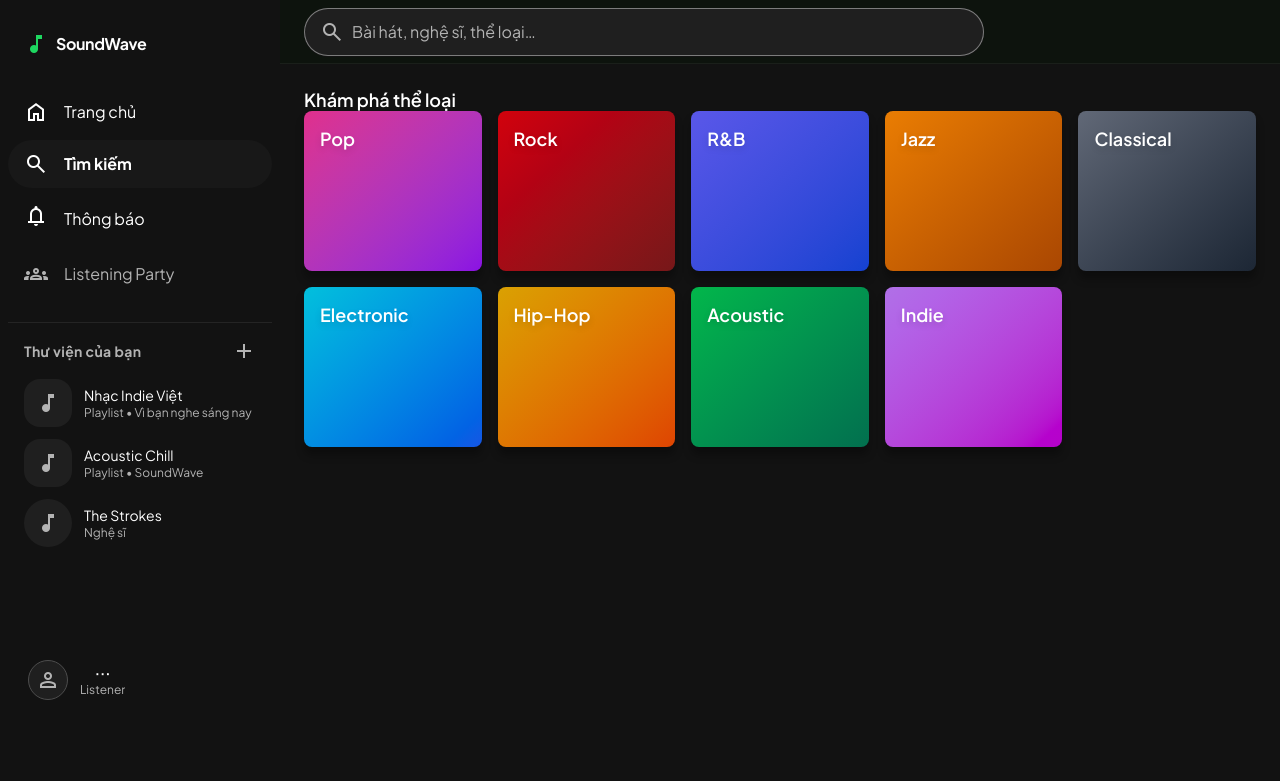
Test case: SearchPage — filter tabs › clicking "Nghệ sĩ" tab shows artists and hides song rows
In the field named "tìm kiếm": (644, 32) [304,8,984,56], type "sơn"
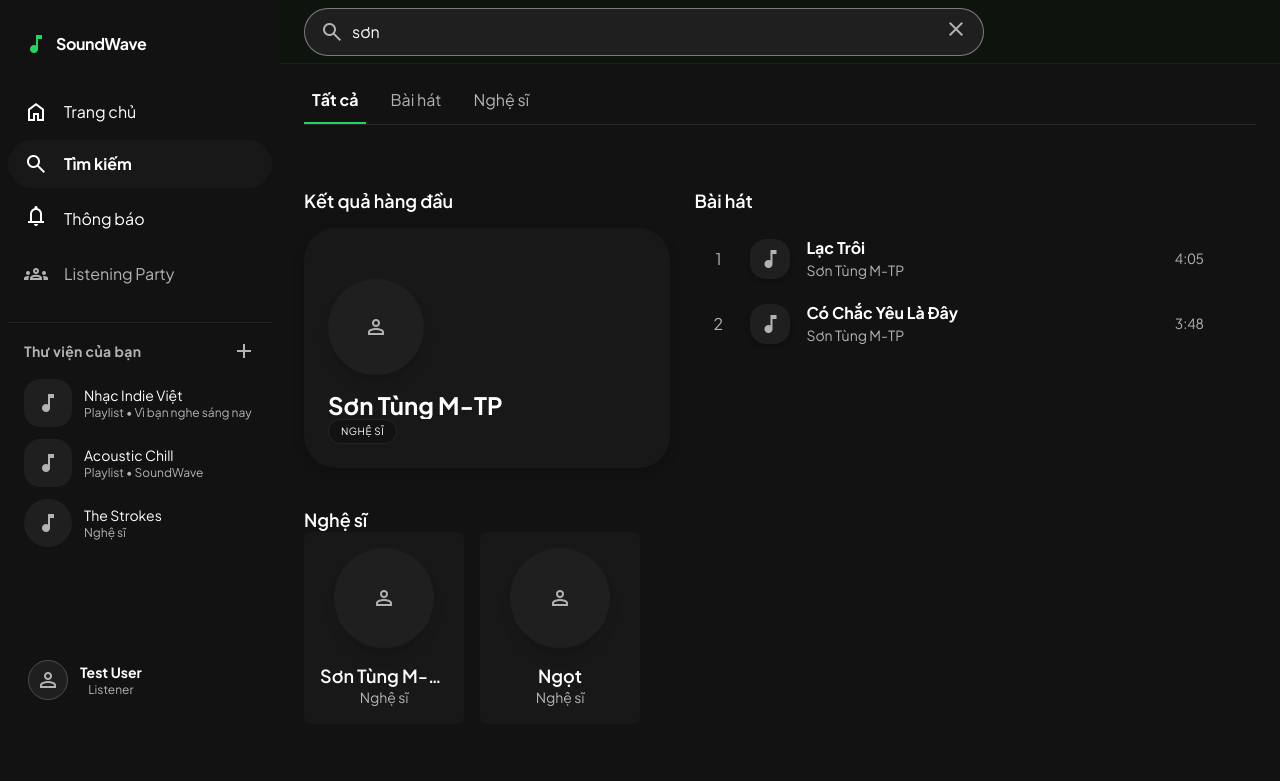
Result: the tab with test id "filter-tab-artists" is shown
Click the tab with test id "filter-tab-artists": click(501, 106) [465,88,537,124]
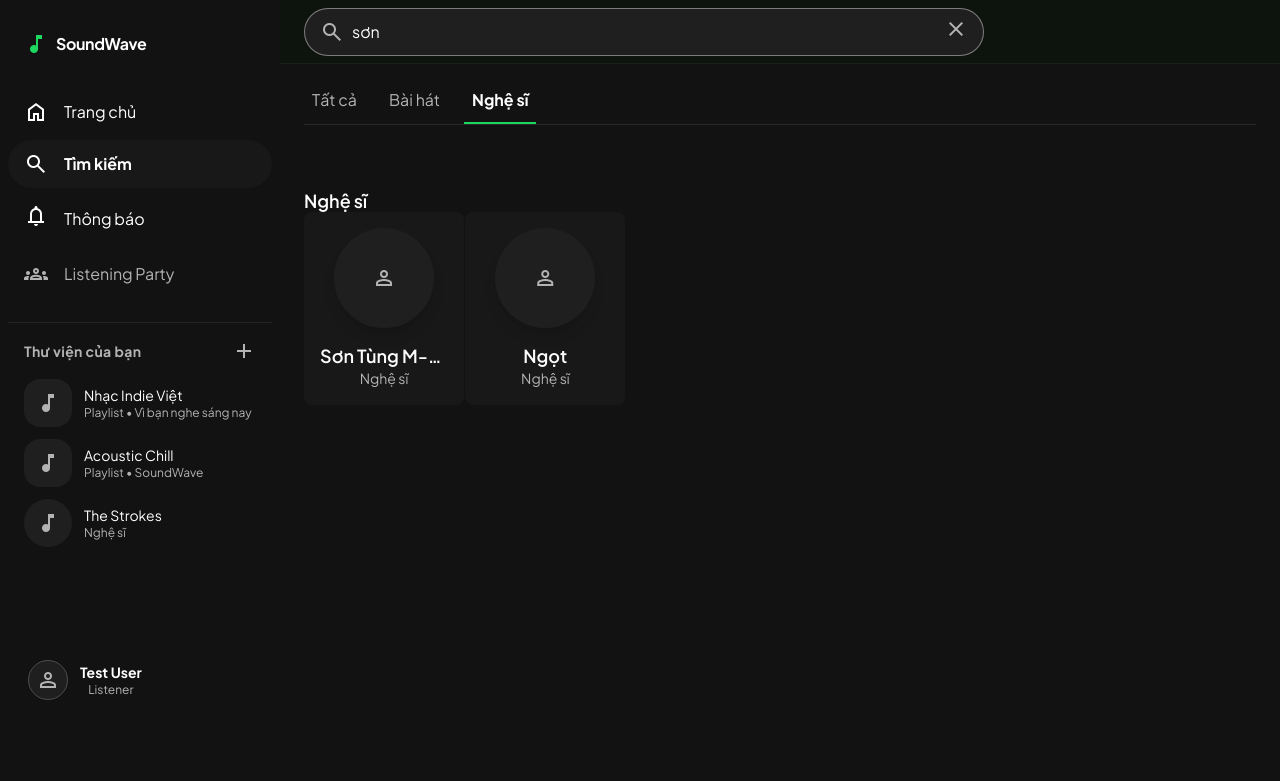
Result: the element with test id "artists-grid" is shown at [304,189,625,405]
Result: the element with test id "song-row-song-001" is gone
